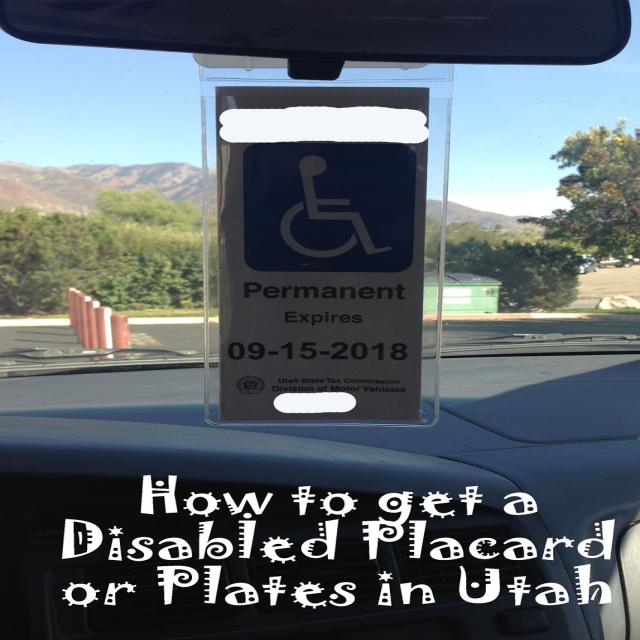symbol_of_access: (250, 148, 398, 271)
